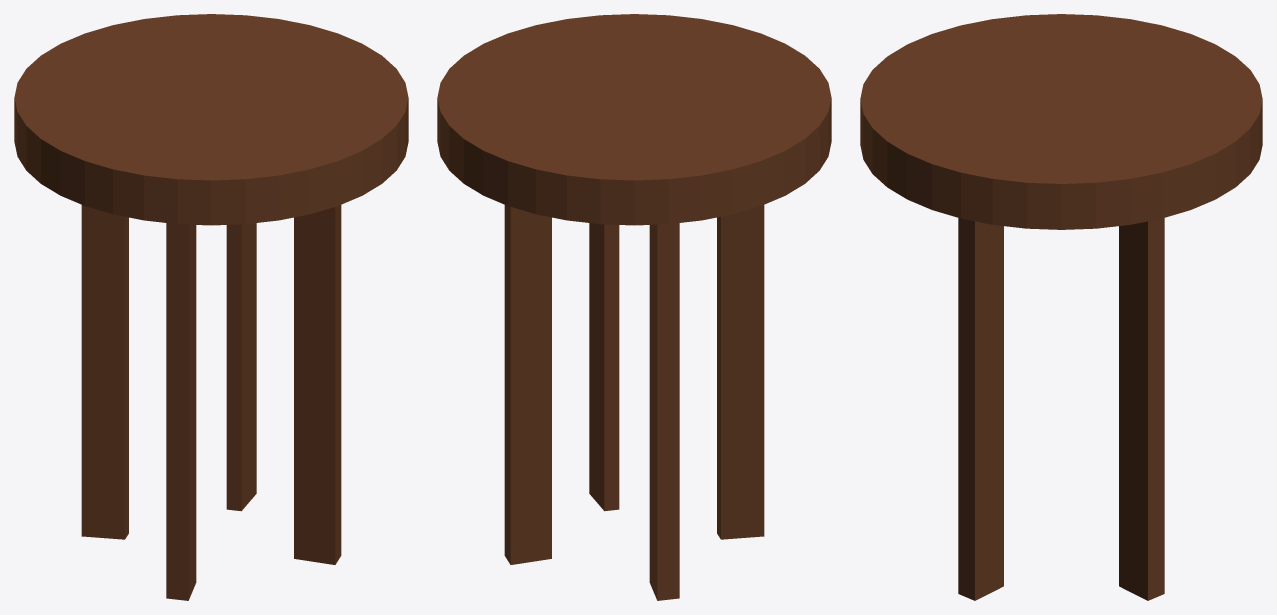
Rendered from Mesita.fbx.
3 views of the same model, side by side, from view 1: azimuth 30°, elevation 25°; view 2: azimuth 150°, elevation 25°; view 3: azimuth 270°, elevation 25° (orthographic). The views are drawn at different scales.
Visible parts, largest first — view 1: Mesita; view 2: Mesita; view 3: Mesita.
Boxes of the visible parts, <box> form: Mesita: <box>14,14,408,600</box>; Mesita: <box>437,14,831,600</box>; Mesita: <box>860,14,1262,600</box>.
Bounding box in the file's own units: 101 × 127 × 101.
